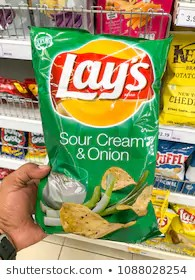lays-large: (30, 28, 161, 246)
